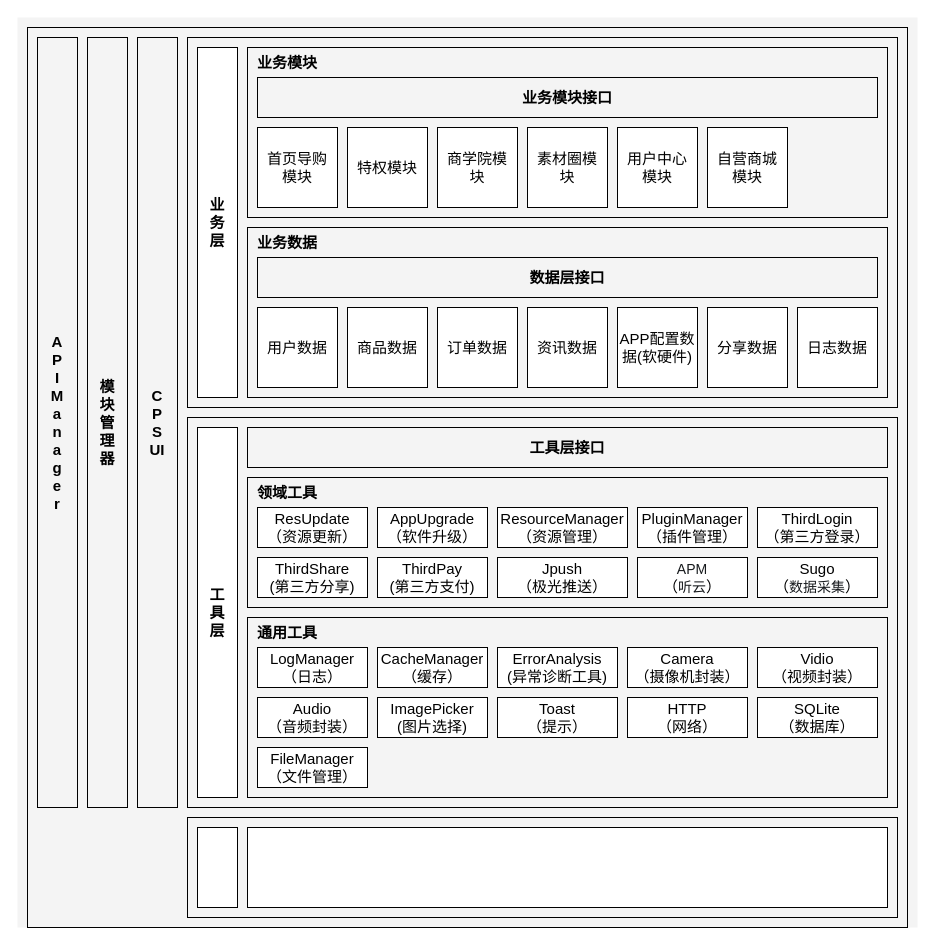
The diagram is 934 pixels wide and 945 high, and some of its shapes have lost their labels. Here are the shapes that lost their labels. From the top down, the centre of each, then its label:
point 217,867: S D K 层
point 567,867: 系统SDK
